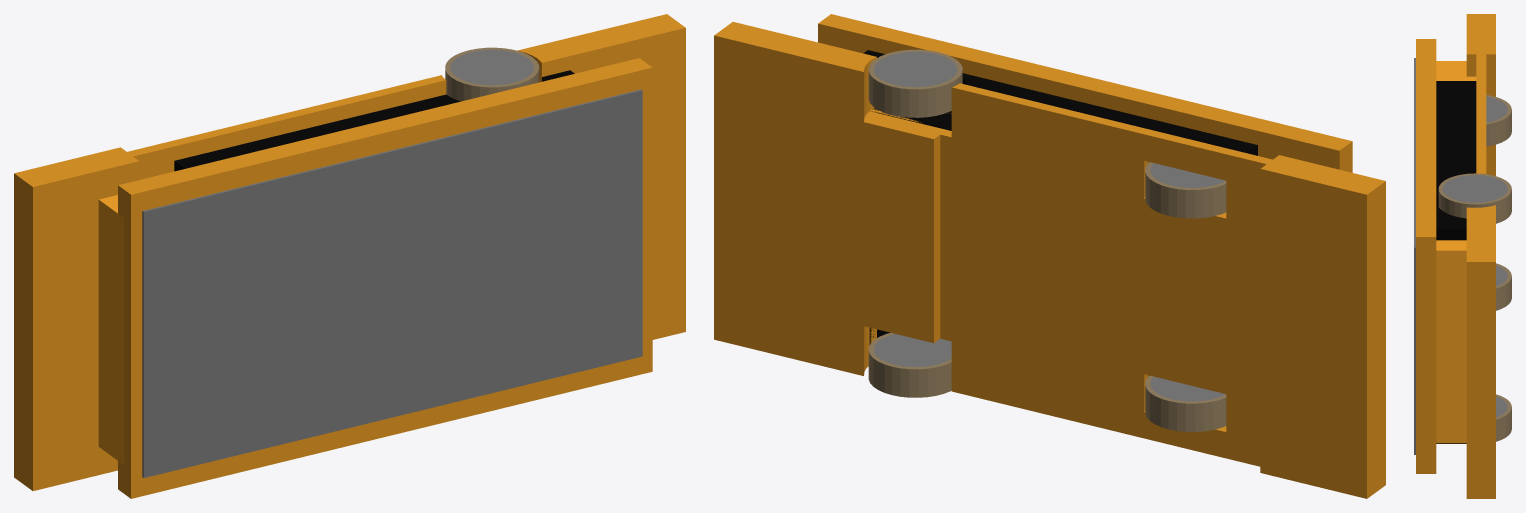
The model's file is ackermann_robot.dae.
3 renders of one model, left to right at view 1: azimuth 30°, elevation 25°; view 2: azimuth 150°, elevation 25°; view 3: azimuth 270°, elevation 25°, orthographic. The views are drawn at different scales.
Visible parts, largest first — view 1: ackermann_robot; view 2: ackermann_robot; view 3: ackermann_robot.
Boxes of the visible parts, box(x1,y1,x2,y2) form: ackermann_robot: box(14, 14, 685, 498); ackermann_robot: box(714, 14, 1385, 498); ackermann_robot: box(1414, 14, 1511, 498).
Size of the model in its own units: 1.44 by 0.24 by 0.65.
